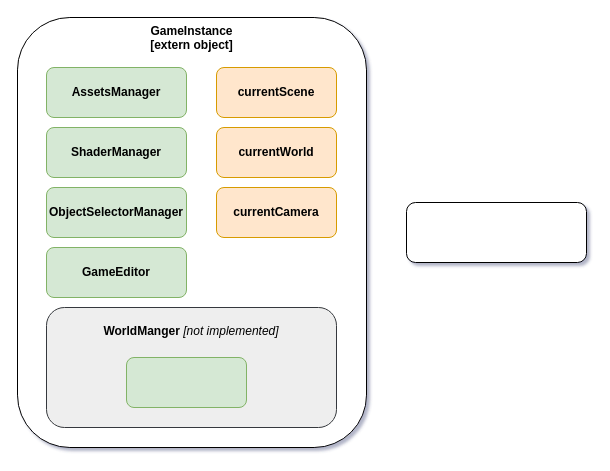
Image size: 610x471. Some labels were removed from this diagram. Each missing label, with the centre of its shape:
"GlobalComponentFactory [Singleton]" goes at [496,232].
"SceneManger" goes at [186,382].
